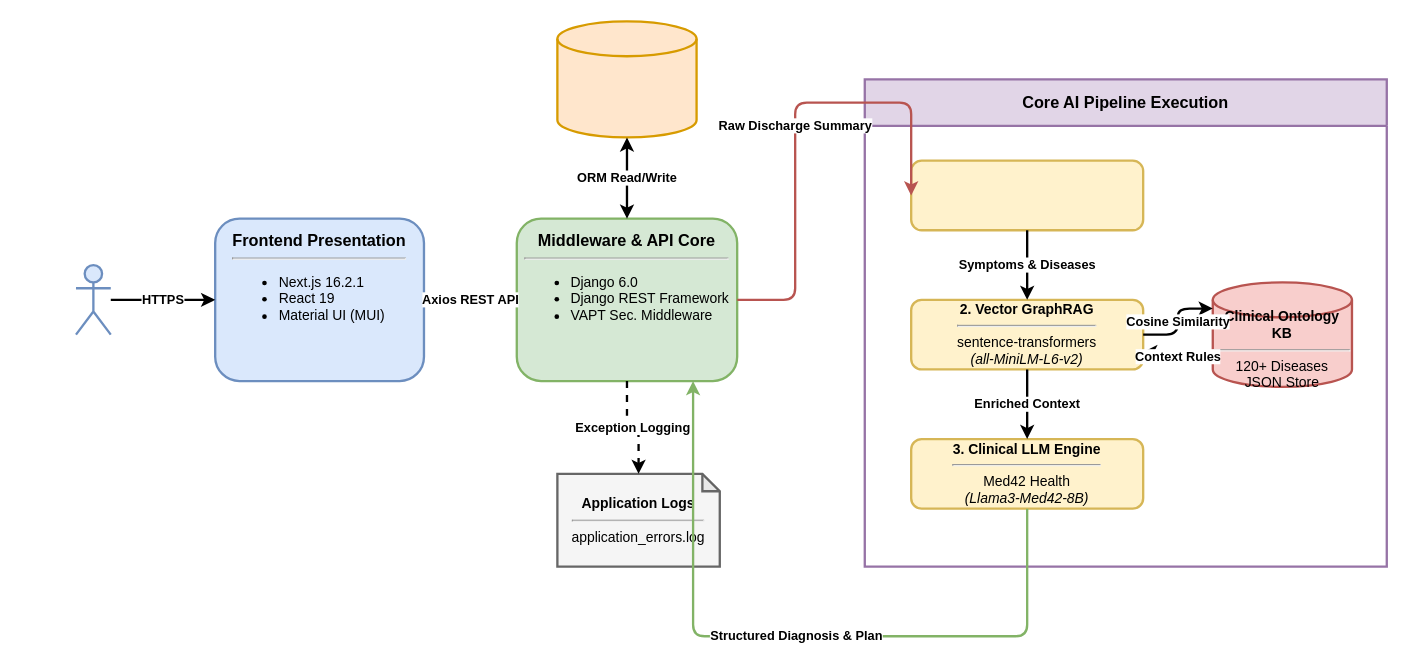
This 1408x666 diagram has some shape labels left out. Each missing label, with the centre of its shape:
"1. Named Entity Extraction BioBERT NER (d4data/biomedical-ner)" goes at point (1026, 195).
"Database Structure MySQL (Production) SQLite (Dev)" goes at point (626, 79).
"Healthcare Professional" goes at point (92, 299).
